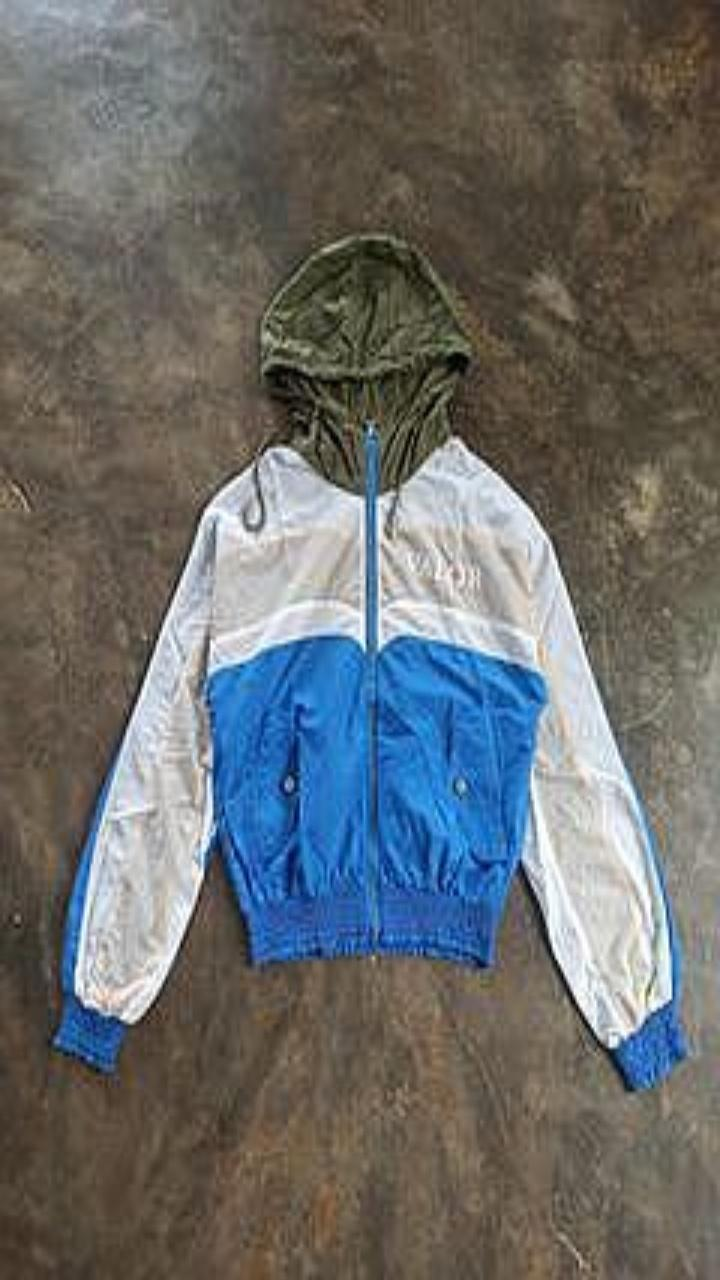Sports_Jacket: (53, 232, 688, 1088)
